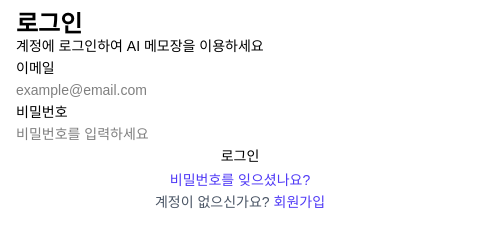
Test: LoginForm › 잘못된 로그인 정보 에러를 처리한다
The image size is (481, 246).
유효한 데이터 입력
Type "test@example.com" into the field labelled "이메일".
click(240, 90); type("test@example.com")  # box [16,80,464,100]
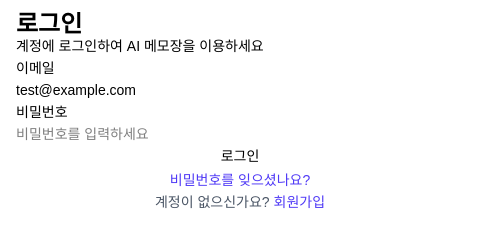
Type "wrongpassword" into the password field labelled "비밀번호".
click(240, 134); type("wrongpassword")  # box [16,124,464,144]
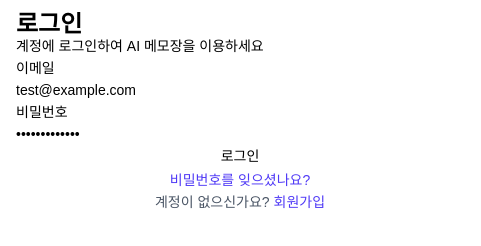
Click the button "로그인".
click(240, 156)  # box [16,146,464,166]
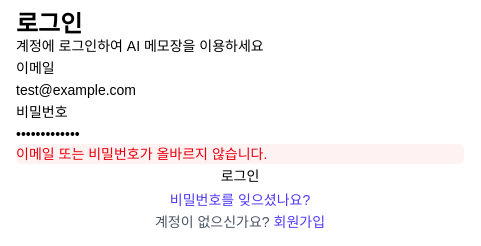
Now the text "이메일 또는 비밀번호가 올바르지 않습니다." is shown, box [16,146,267,162]
